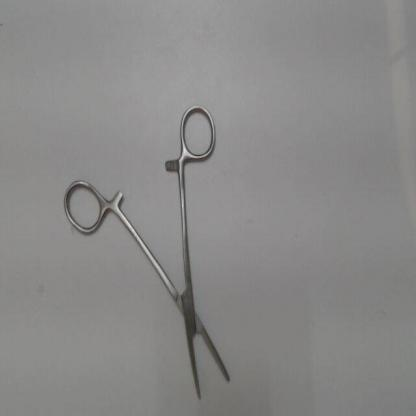Mayo Needle Holder: (58, 100, 240, 408)
